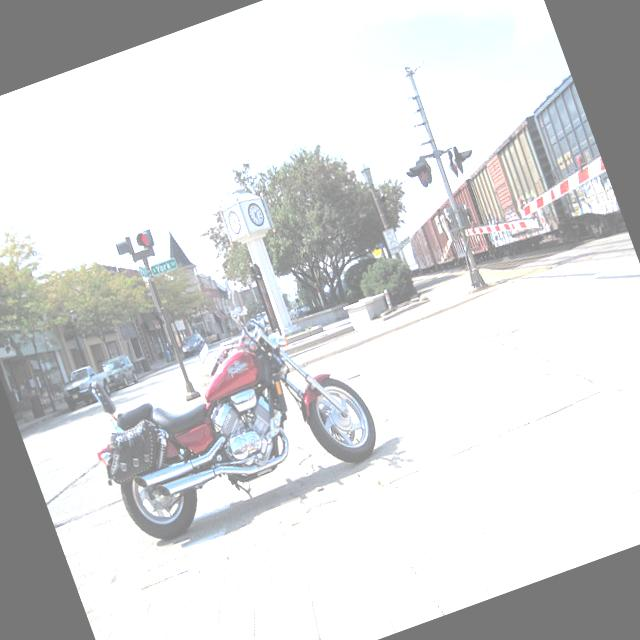Vehicle: (63, 276, 392, 559), (57, 359, 116, 412), (100, 352, 142, 394), (99, 352, 140, 393), (179, 330, 209, 357)
